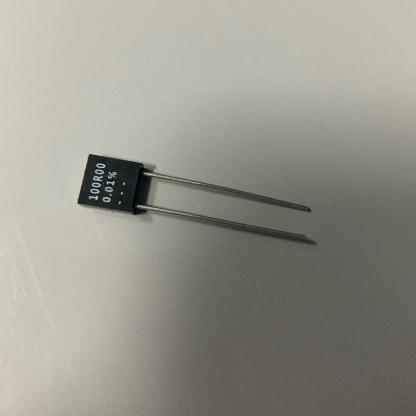SP0000007: (39, 103, 357, 346)
